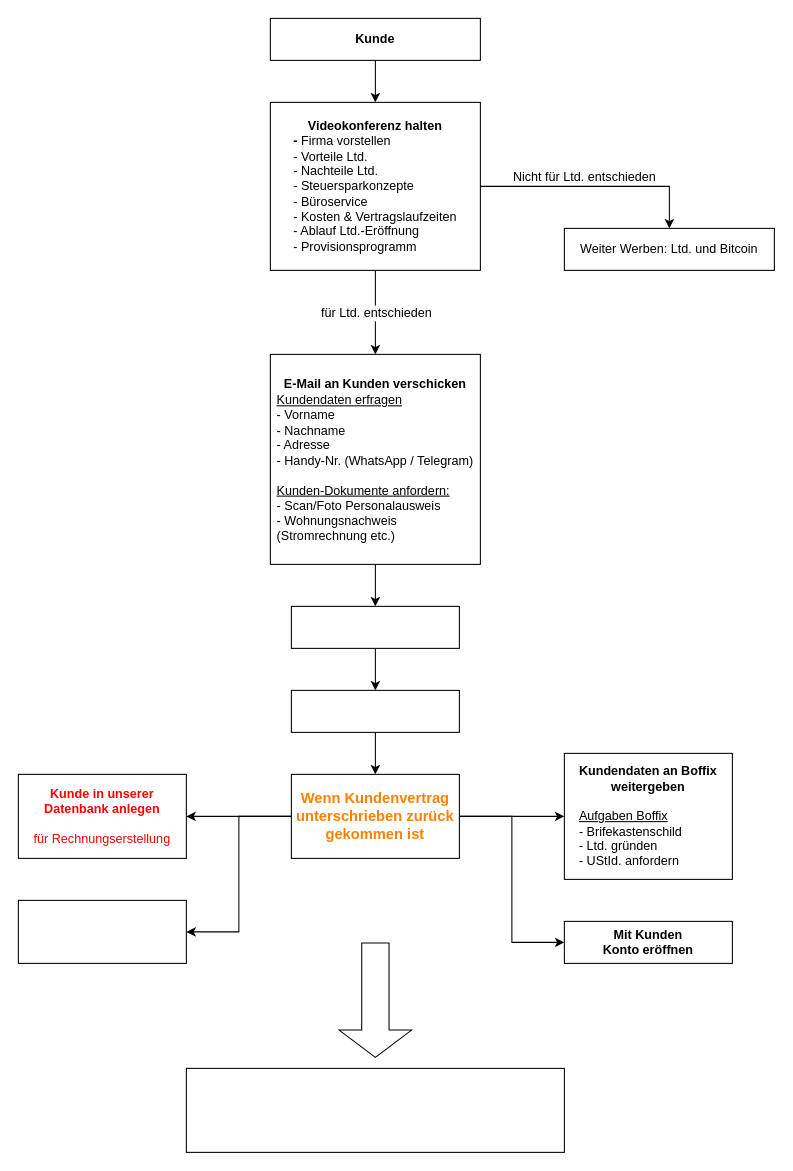
The diagram is 793 pixels wide and 1171 high, and some of its shapes have lost their labels. Each missing label, with the centre of its shape:
"Kunde in QuickBooks anlegen, ggf. mit Konto verknüpfen" belongs at [101,931].
"Kunden-Vertrag erstellen" belongs at [374,626].
"Rechnungen per Telegram / WhatsApp einsammeln und mit Quickbooks abgleichen" belongs at [374,1109].
"Vertag Kunden zuschicken" belongs at [374,710].
